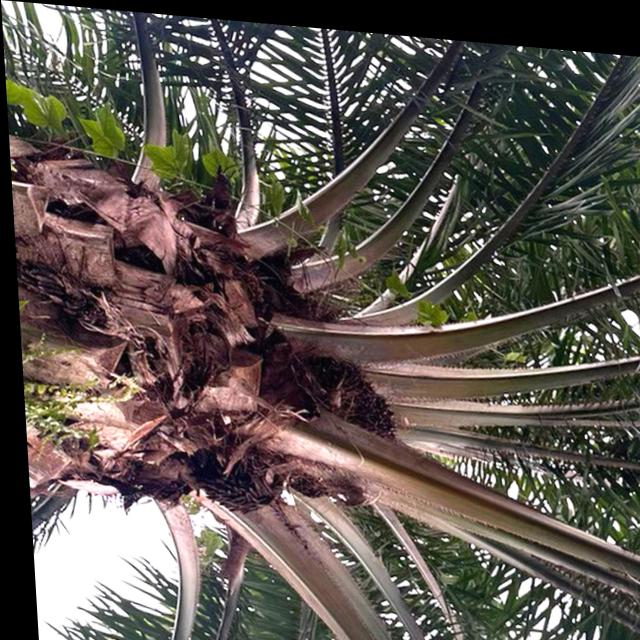ripe: (272, 331, 409, 457)
